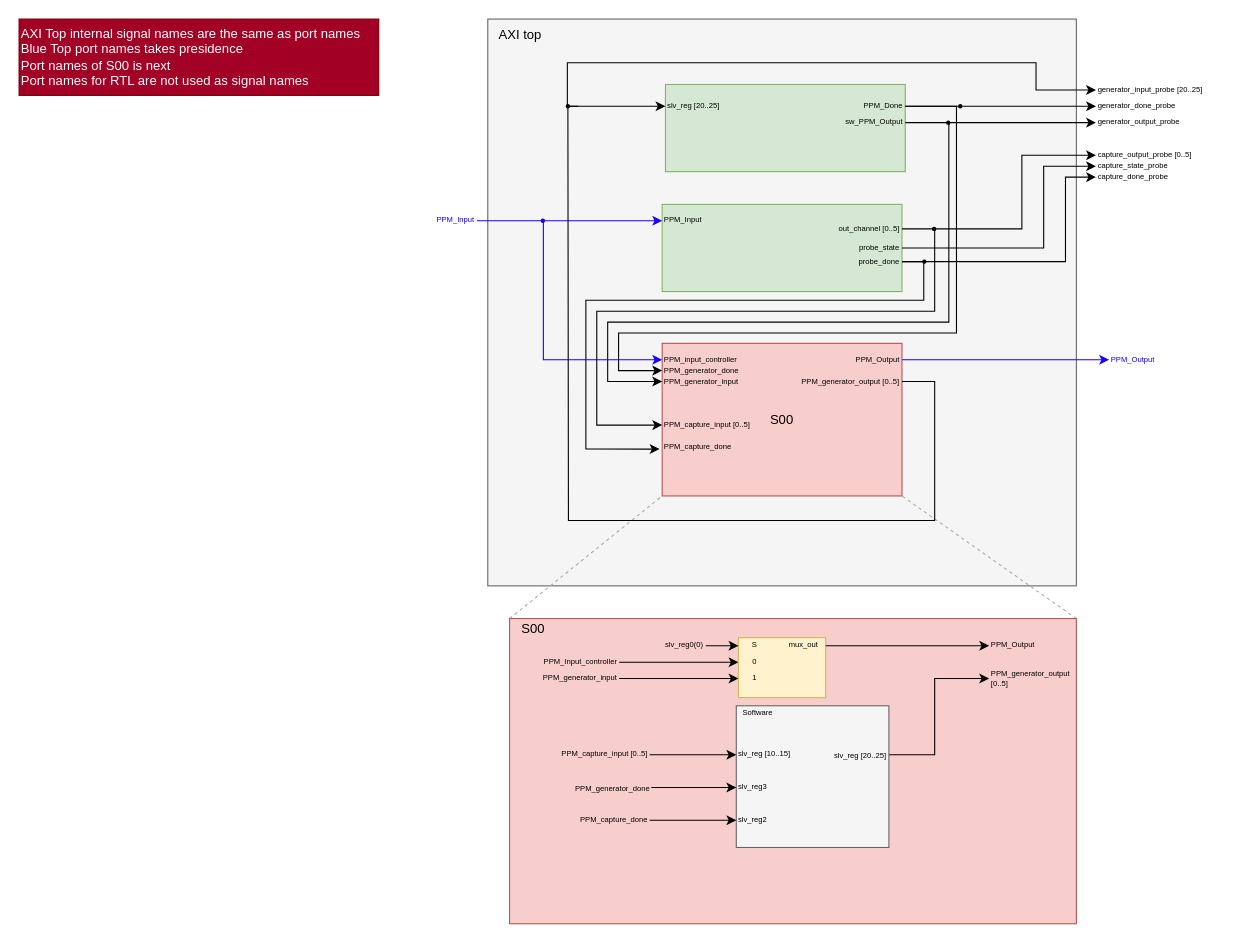
Some shapes in this 1246 by 943 pixel diagram are drawn without their labels. The box of each missing label's shape, as (x1, y1, x2, y2) in pixels:
PPM capture: (661, 203, 902, 292)
PPM generate: (664, 83, 905, 172)
